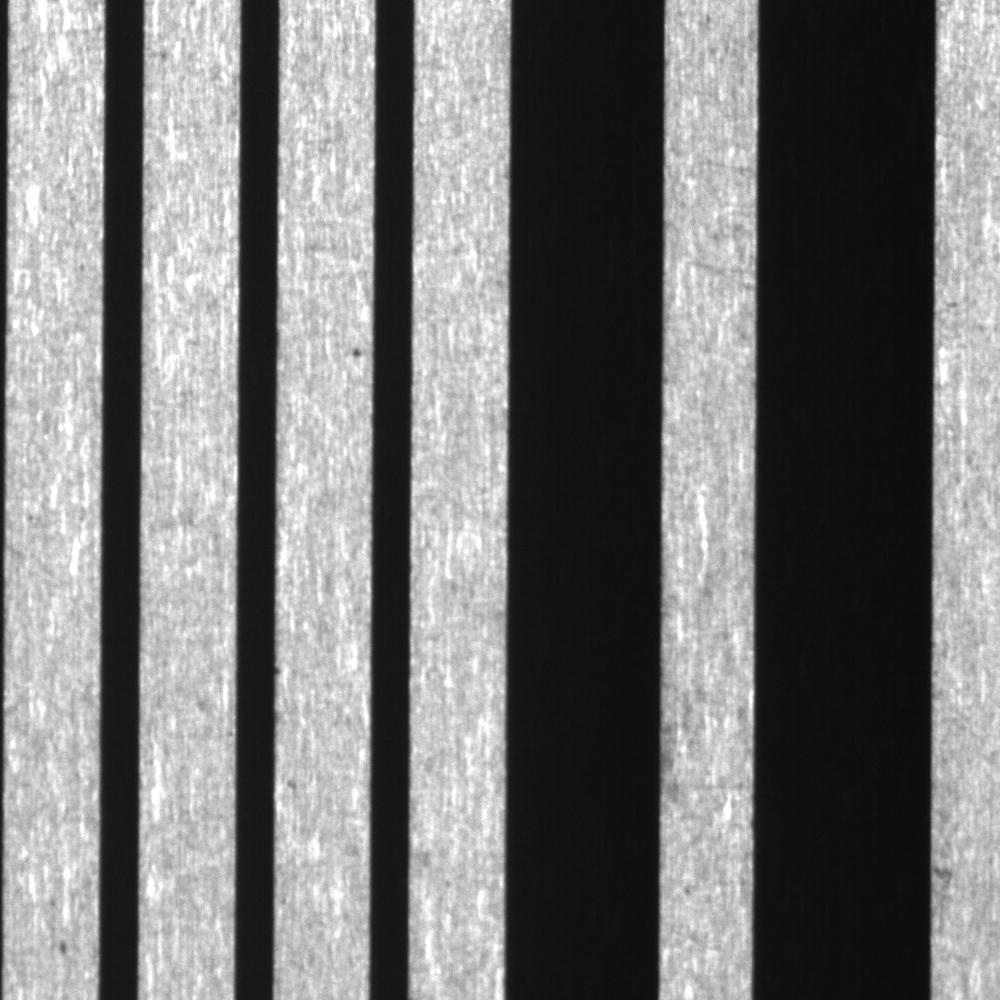Pinhole: (42, 923, 85, 966), (341, 329, 375, 370)
Scar: (677, 248, 759, 296)
